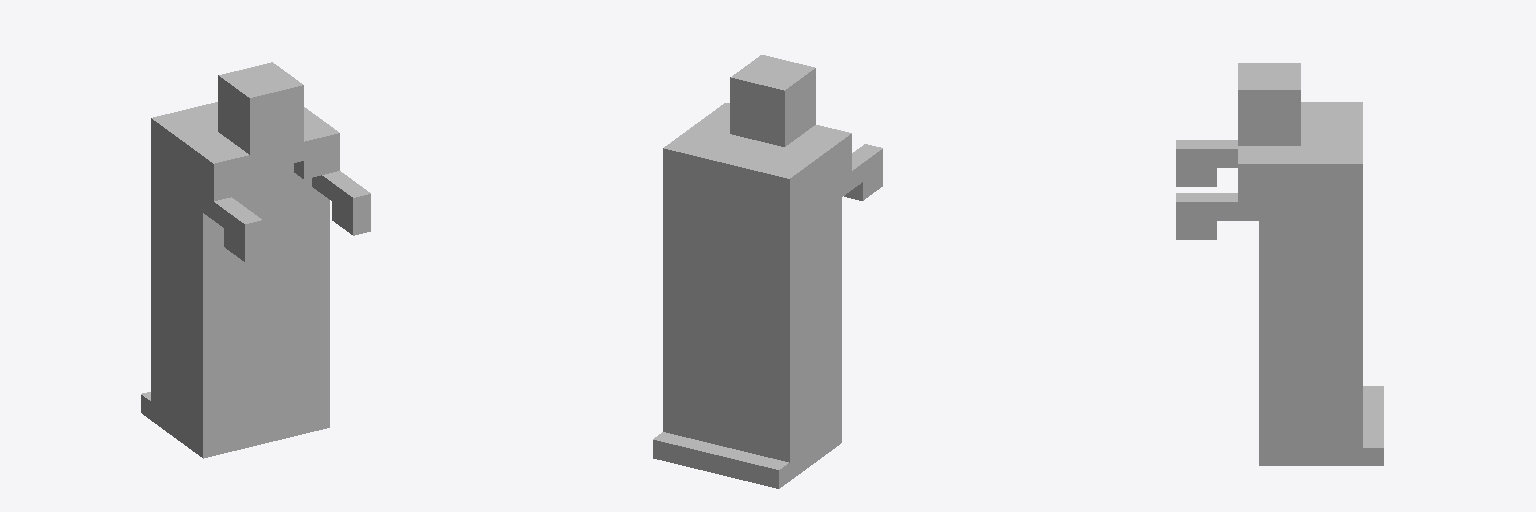
3 renders of one model, left to right at view 1: azimuth 30°, elevation 25°; view 2: azimuth 150°, elevation 25°; view 3: azimuth 270°, elevation 25°, orthographic.
Visible parts, largest first — view 1: Vampire; view 2: Vampire; view 3: Vampire.
Boxes of the visible parts, x1,y1,x2,y2 form: Vampire: [141, 62, 370, 458]; Vampire: [653, 55, 882, 488]; Vampire: [1176, 63, 1383, 465].
Bounding box in the file's own units: 0.42 × 1.14 × 0.6.